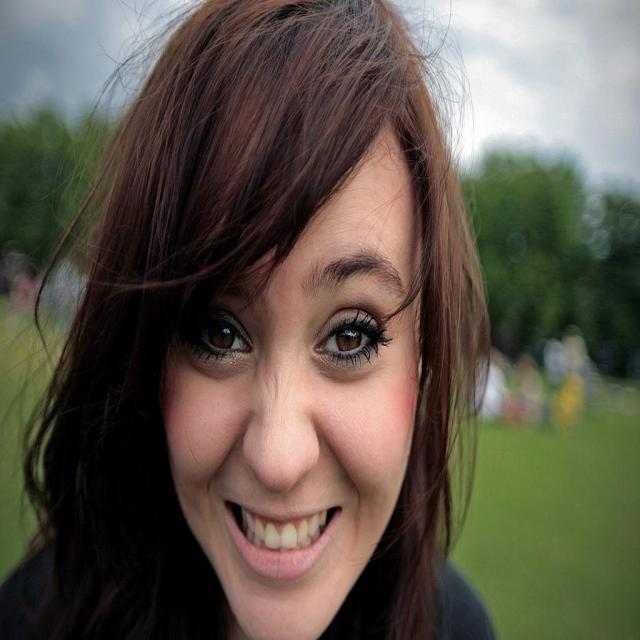Eyebags: (177, 337, 252, 382), (313, 350, 380, 382)
